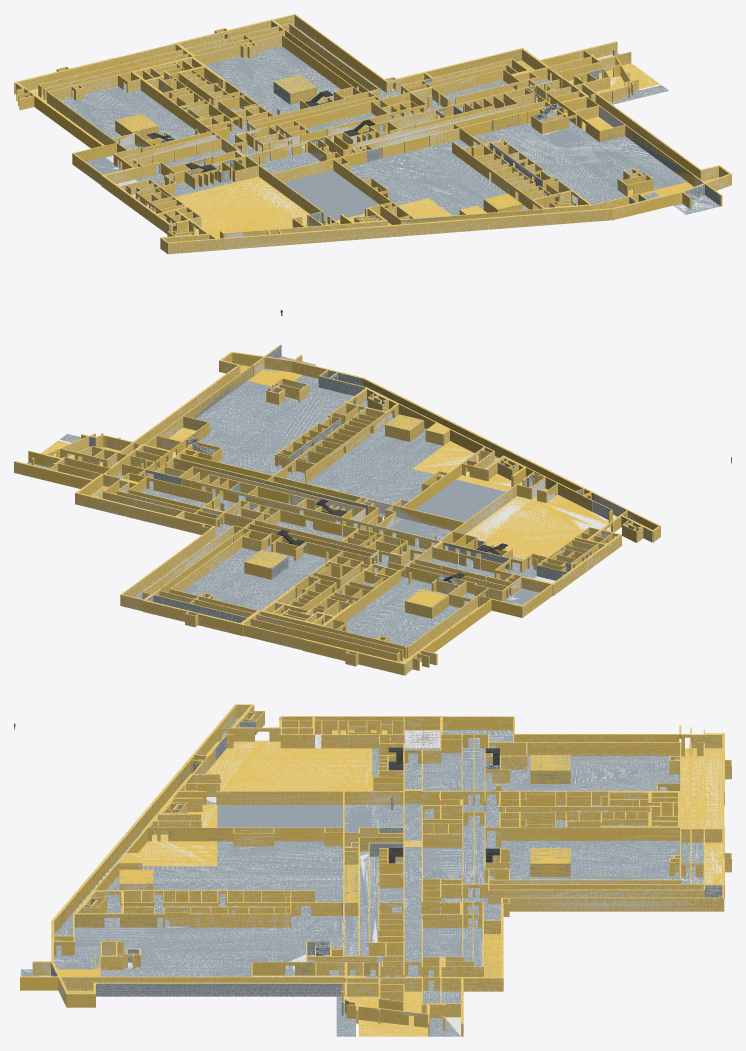
The model's file is Ebene98.FBX.
The picture shows the model from 3 angles, top to bottom: view 1: azimuth 30°, elevation 25°; view 2: azimuth 150°, elevation 25°; view 3: azimuth 270°, elevation 25°; orthographic projection. The views are drawn at different scales.
Parts seen in each view (by area): view 1: Group1; view 2: Group1; view 3: Group1.
Part boxes in pixels (x1,y1,x2,y2): Group1: [14, 14, 731, 254]; Group1: [14, 344, 660, 675]; Group1: [20, 704, 731, 1036].
Size of the model in its own units: 6084 by 189 by 5781.
